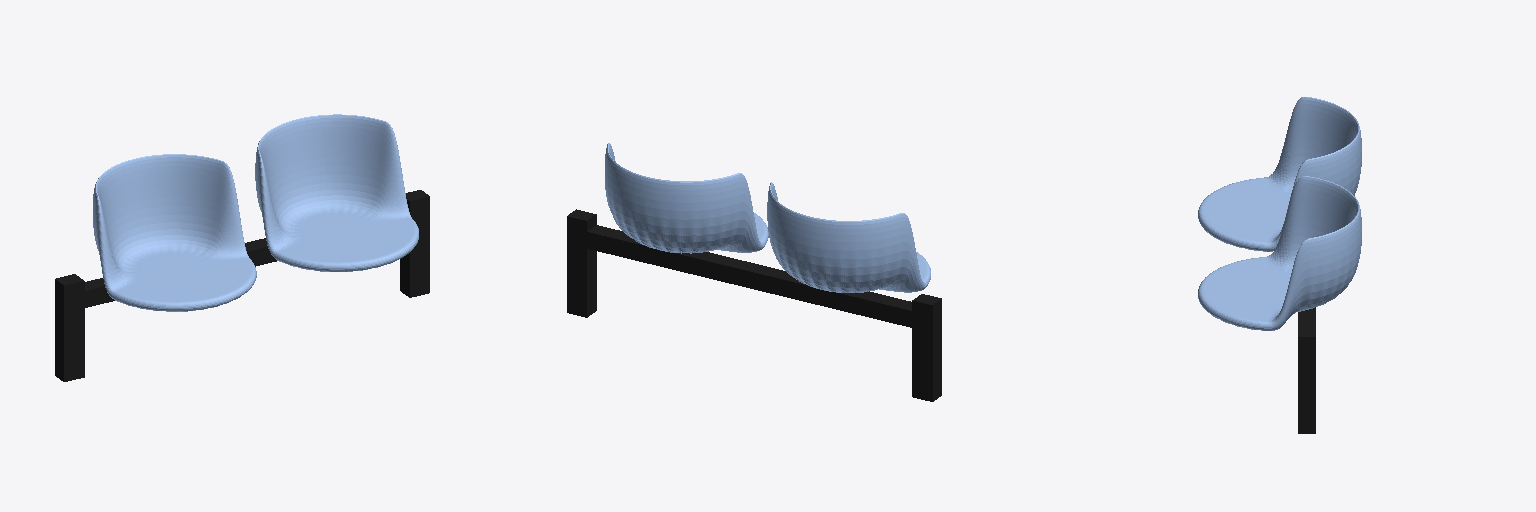
Rendered from modern-chair1.obj.
3 views of the same model, side by side, from view 1: azimuth 30°, elevation 25°; view 2: azimuth 150°, elevation 25°; view 3: azimuth 270°, elevation 25° (orthographic).
Parts seen in each view (by area): view 1: Cylinder_Cylinder.003, Cylinder.001_Cylinder.004, Cube_Cube.001; view 2: Cube_Cube.001, Cylinder_Cylinder.003, Cylinder.001_Cylinder.004; view 3: Cylinder.001_Cylinder.004, Cylinder_Cylinder.003, Cube_Cube.001.
Part boxes in pixels (bbox=[...]): Cylinder_Cylinder.003: bbox=[93, 154, 256, 311]; Cylinder.001_Cylinder.004: bbox=[255, 114, 418, 271]; Cube_Cube.001: bbox=[55, 190, 429, 381]; Cube_Cube.001: bbox=[567, 209, 941, 401]; Cylinder_Cylinder.003: bbox=[767, 182, 930, 292]; Cylinder.001_Cylinder.004: bbox=[605, 143, 768, 253]; Cylinder.001_Cylinder.004: bbox=[1198, 176, 1361, 330]; Cylinder_Cylinder.003: bbox=[1198, 97, 1361, 251]; Cube_Cube.001: bbox=[1298, 307, 1315, 433].
Bounding box in the file's own units: 3.6 × 1.66 × 1.4.